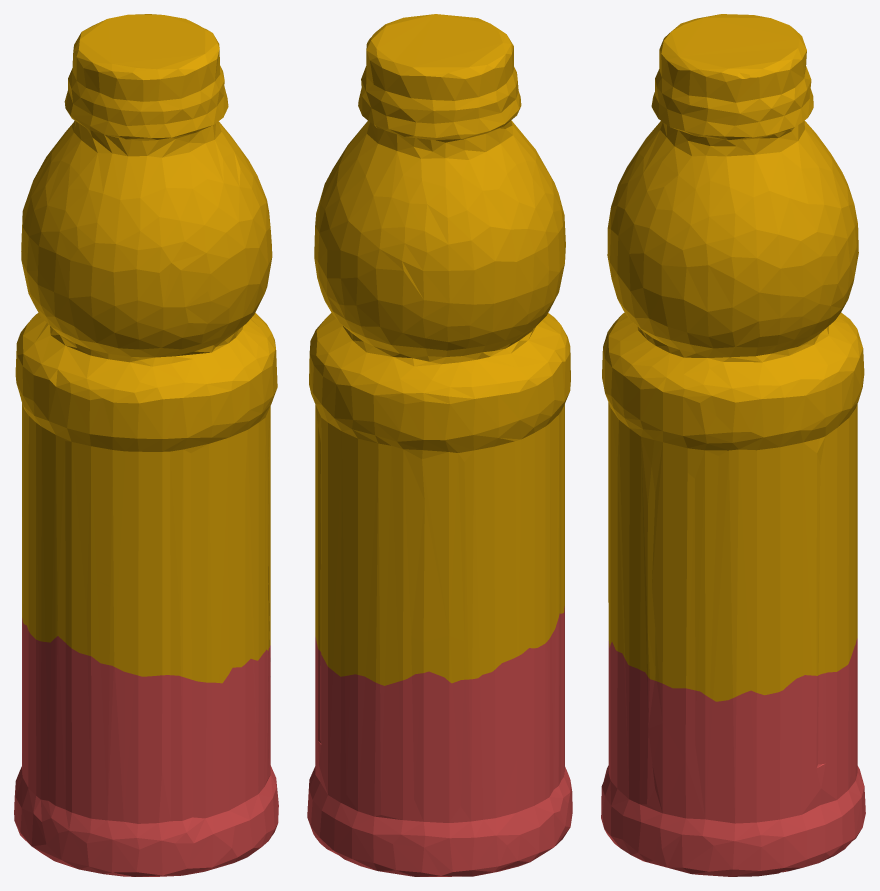
The model's file is fractured_4_2pcs.glb.
3 renders of one model, left to right at view 1: azimuth 30°, elevation 25°; view 2: azimuth 150°, elevation 25°; view 3: azimuth 270°, elevation 25°, orthographic.
Parts seen in each view (by area): view 1: piece_0.obj, piece_1.obj; view 2: piece_0.obj, piece_1.obj; view 3: piece_0.obj, piece_1.obj.
Part boxes in pixels (x1=…): piece_0.obj: x1=15, y1=14, x2=277, y2=683; piece_1.obj: x1=14, y1=618, x2=278, y2=876; piece_0.obj: x1=309, y1=14, x2=570, y2=685; piece_1.obj: x1=307, y1=606, x2=572, y2=876; piece_0.obj: x1=602, y1=14, x2=864, y2=701; piece_1.obj: x1=601, y1=638, x2=865, y2=876.
Size of the model in its own units: 0.3065 by 1 by 0.3062.
